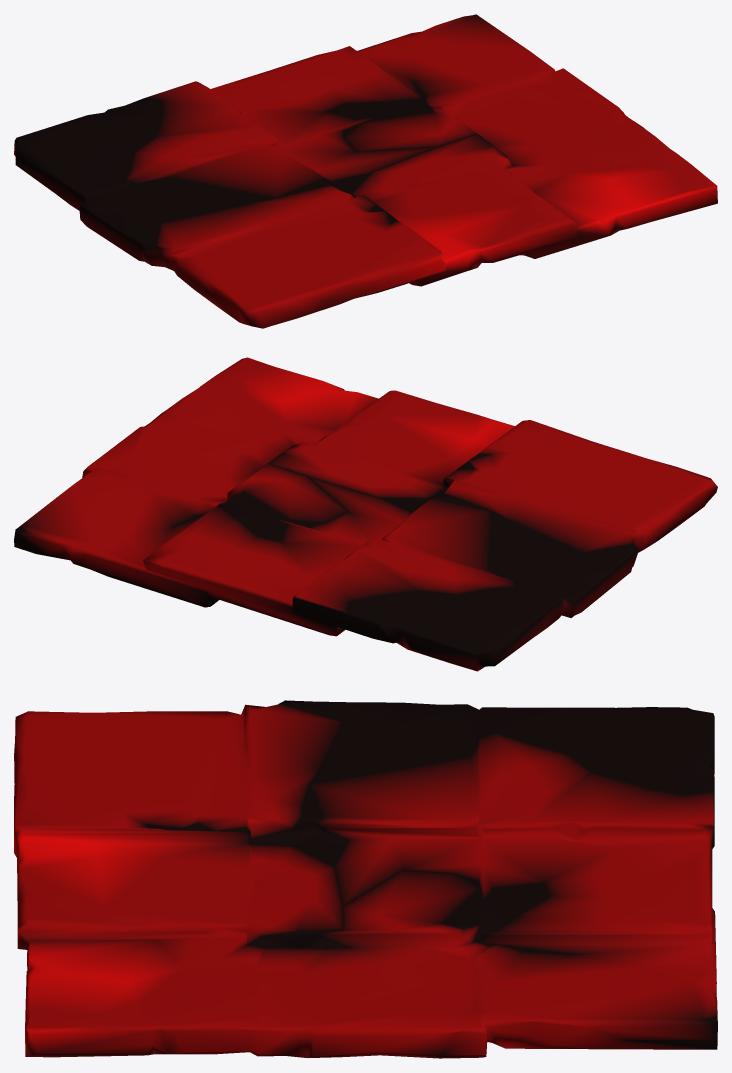
The model's file is SM_RoofTile_Flat_HalfXHalf.fbx.
The picture shows the model from 3 angles, top to bottom: view 1: azimuth 30°, elevation 25°; view 2: azimuth 150°, elevation 25°; view 3: azimuth 270°, elevation 25°; orthographic projection. The views are drawn at different scales.
Visible parts, largest first — view 1: SM_RoofTile_Flat_HalfXHalf_LOD0; view 2: SM_RoofTile_Flat_HalfXHalf_LOD0; view 3: SM_RoofTile_Flat_HalfXHalf_LOD0.
Part boxes in pixels (x1,y1,x2,y2): SM_RoofTile_Flat_HalfXHalf_LOD0: (14, 14, 717, 328); SM_RoofTile_Flat_HalfXHalf_LOD0: (14, 357, 717, 671); SM_RoofTile_Flat_HalfXHalf_LOD0: (14, 700, 717, 1058).
Bounding box in the file's own units: 117 × 99.18 × 8.43.
